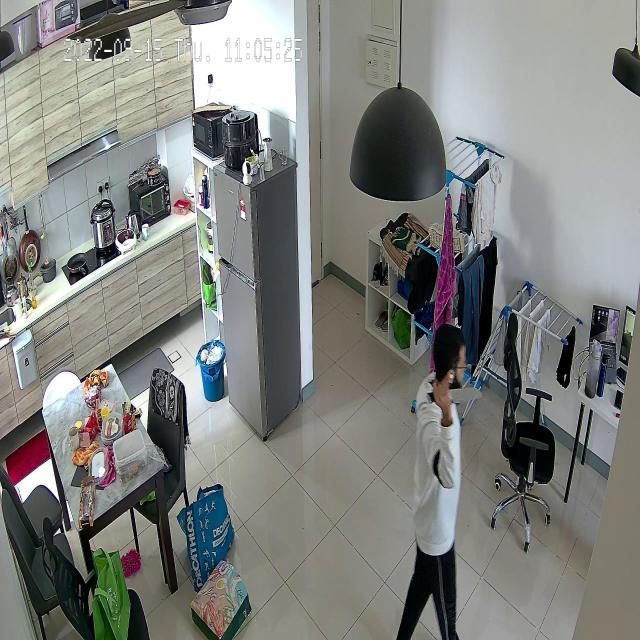Knife: (404, 379, 488, 414)
